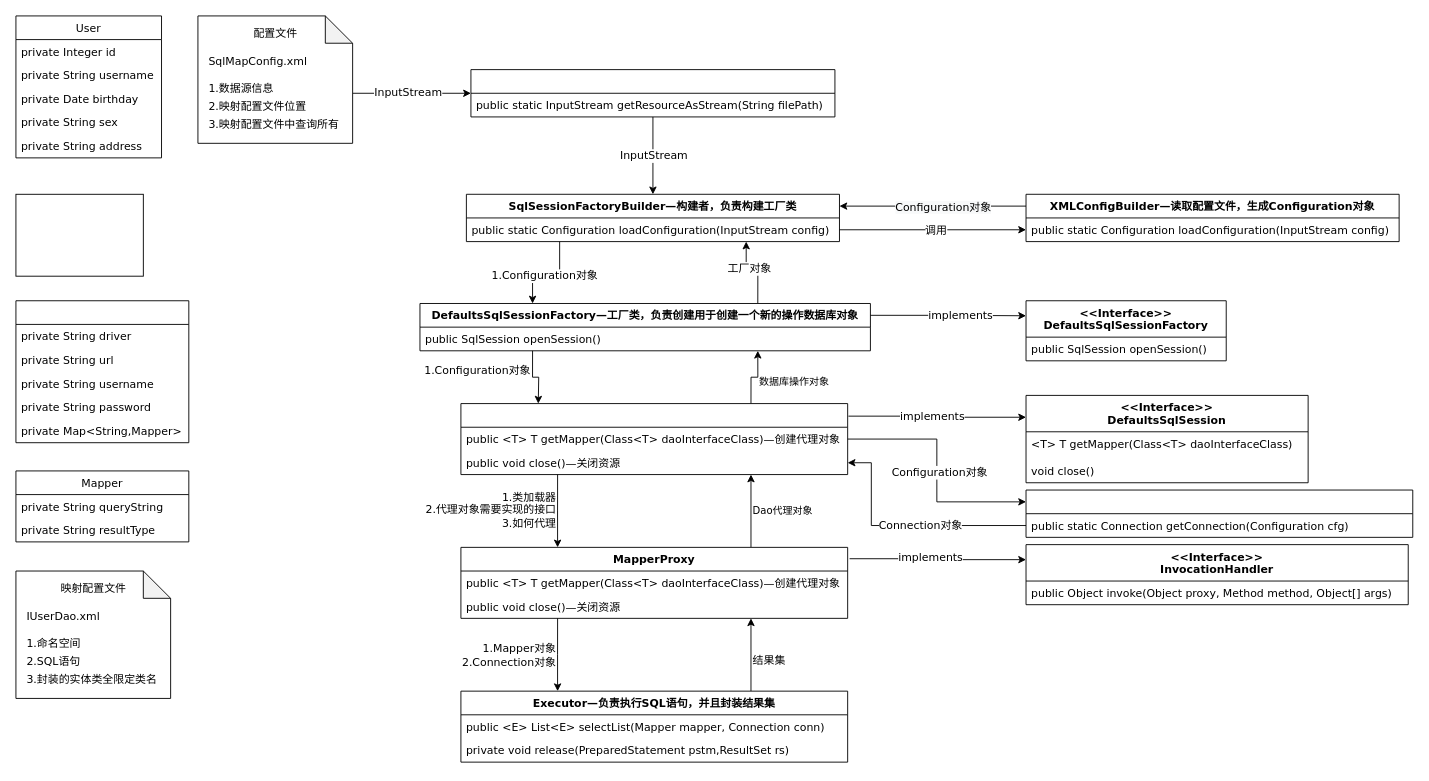
Some shapes in this 1429 by 781 pixel diagram are drawn without their labels. The box of each missing label's shape, as (x1, y1, x2, y2) in pixels:
<<Interface>> IUserDao List<User> findAll(): (15, 193, 143, 276)
Configuration: (15, 300, 189, 443)
DataSourceUtil——负责创建Connection对象: (1025, 489, 1413, 537)
DefaultsSqlSession—负责创建Dao接口的代理对象: (460, 403, 848, 475)
Resource—生成配置文件输入流: (470, 69, 835, 117)
